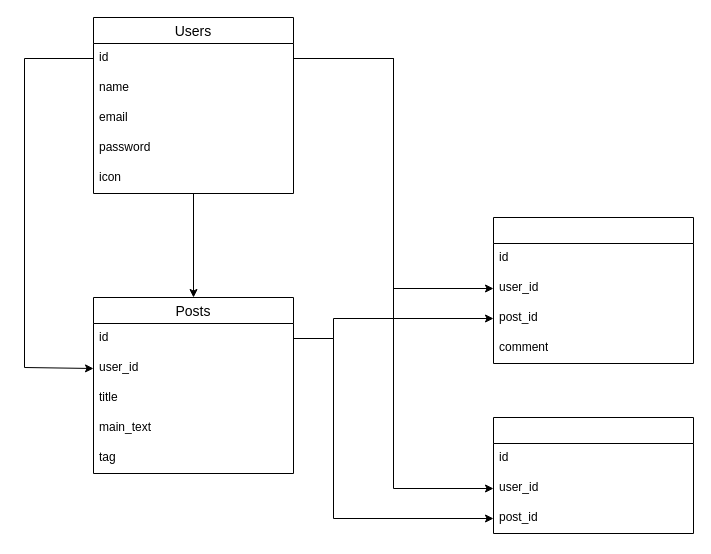
This 711x554 diagram has some shape labels left out. The box of each missing label's shape, as (x1, y1, x2, y2) in pixels:
Comments: (492, 216, 694, 364)
Likes: (492, 416, 694, 534)
